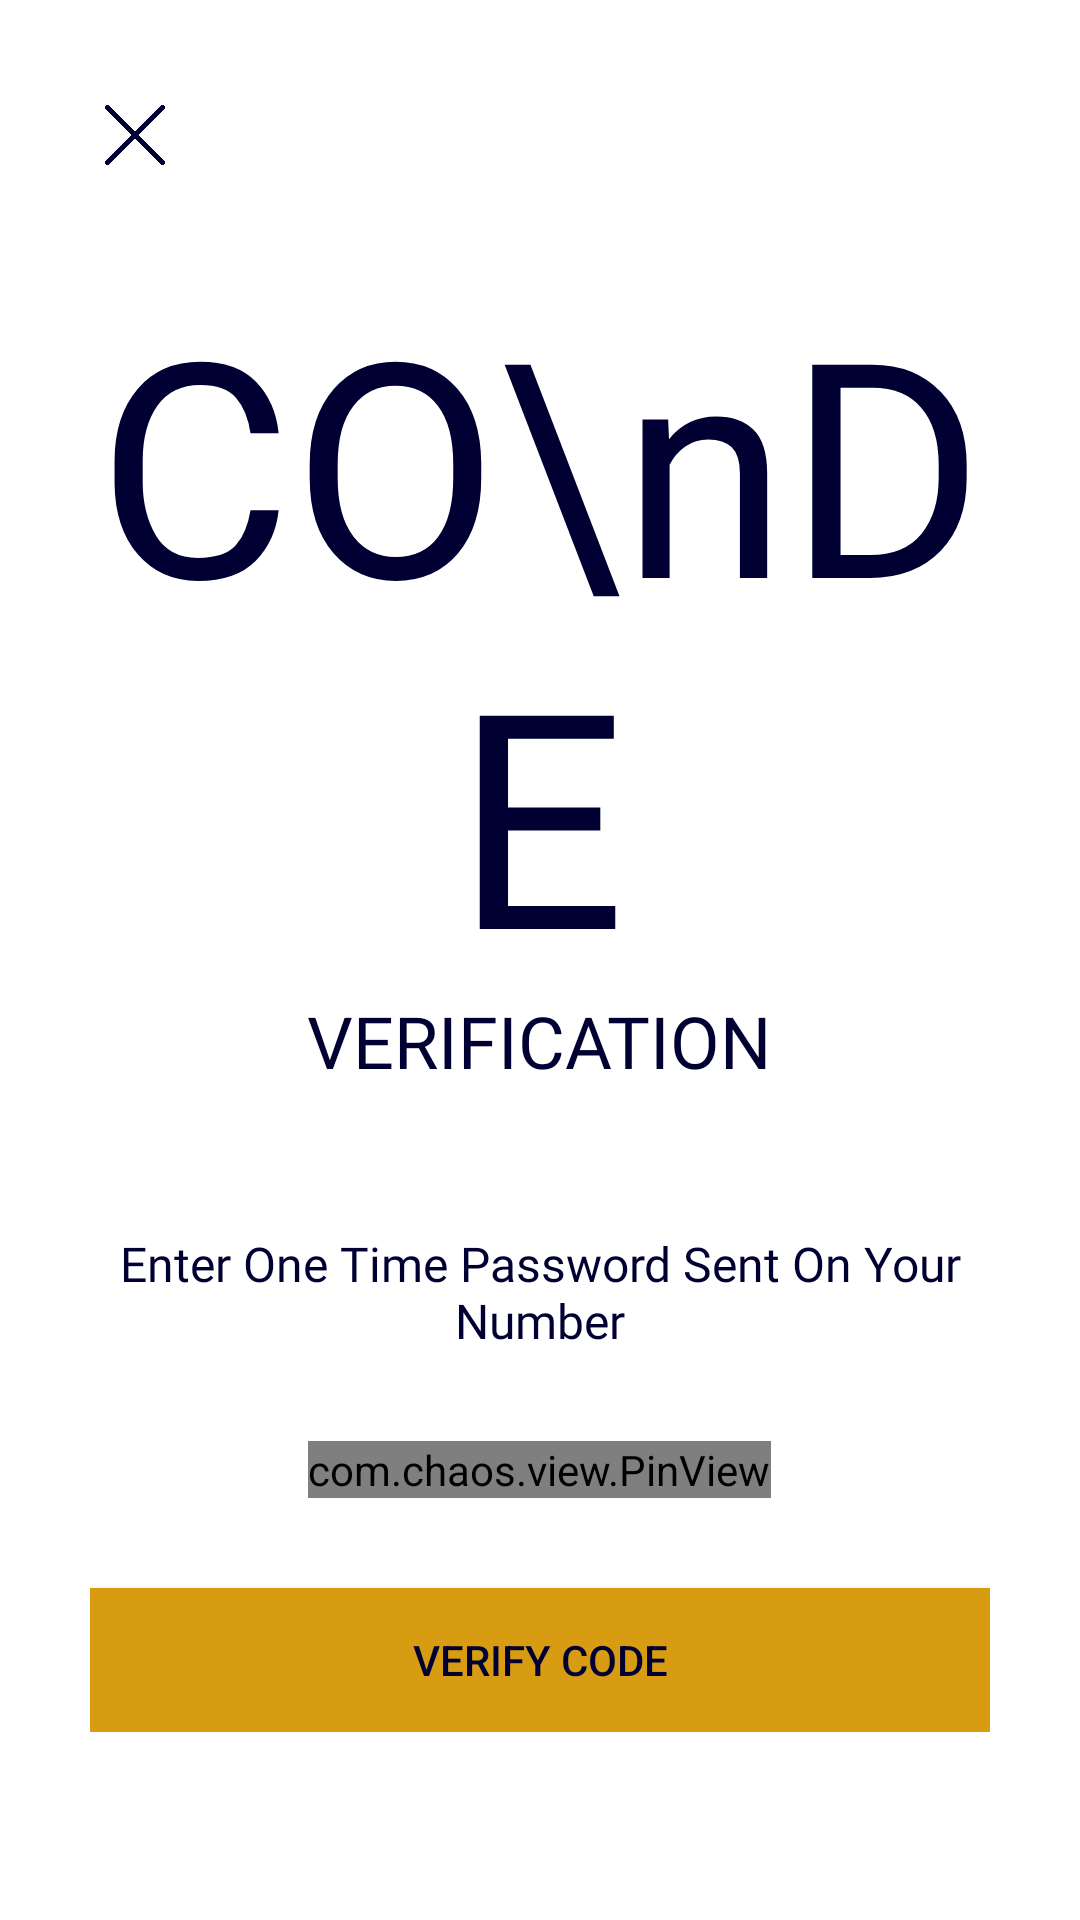

Icons on this 1080×1920 Android screen, each with its box as {"left": x1, "top": y1, "right": x2, "bottom": y2}:
cancel: {"left": 105, "top": 105, "right": 165, "bottom": 165}
